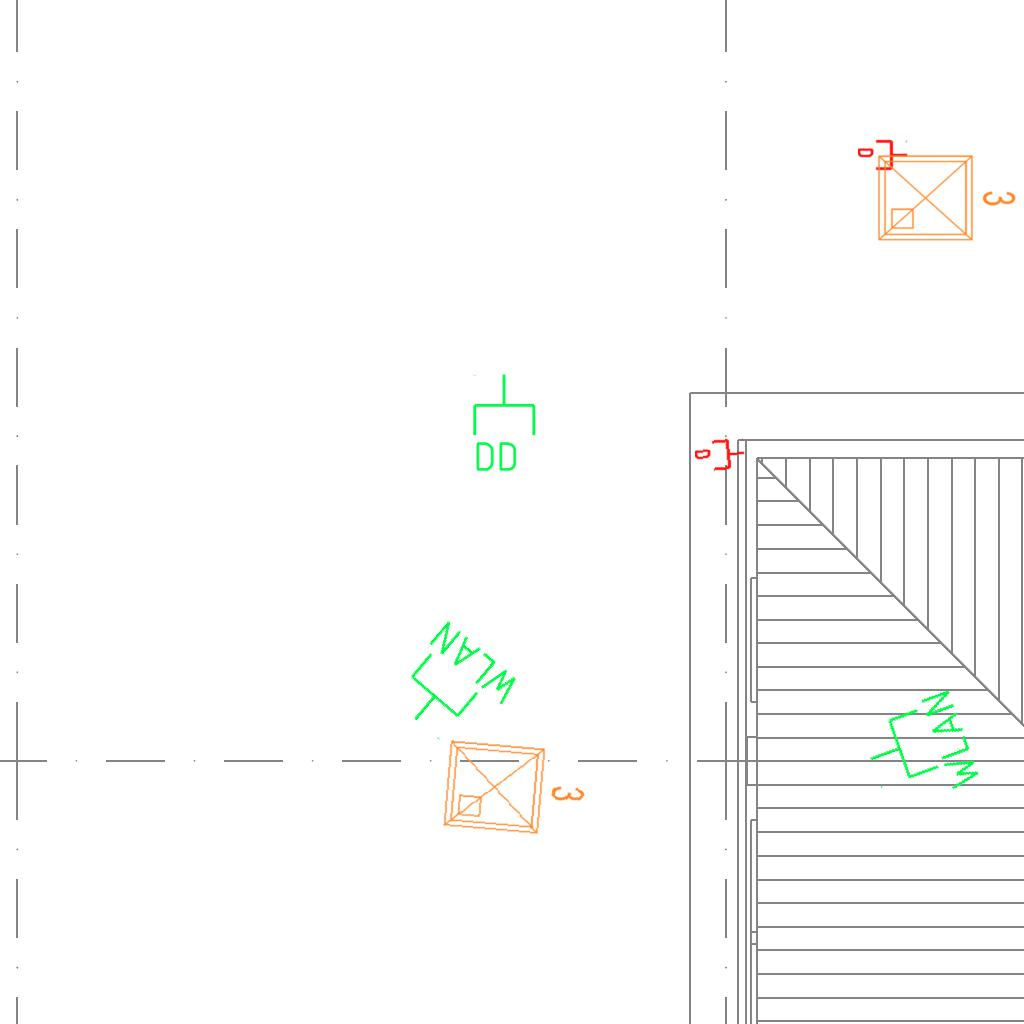Datenanschluss_einfach: (693, 435, 747, 475), (858, 138, 908, 172)
Datenanschluss_zweifach: (469, 372, 538, 475)
Einbaudownlights_LED_Konferenzraeume: (435, 728, 595, 846), (871, 144, 1021, 248)
WLAN: (380, 614, 528, 763), (853, 684, 987, 819)
